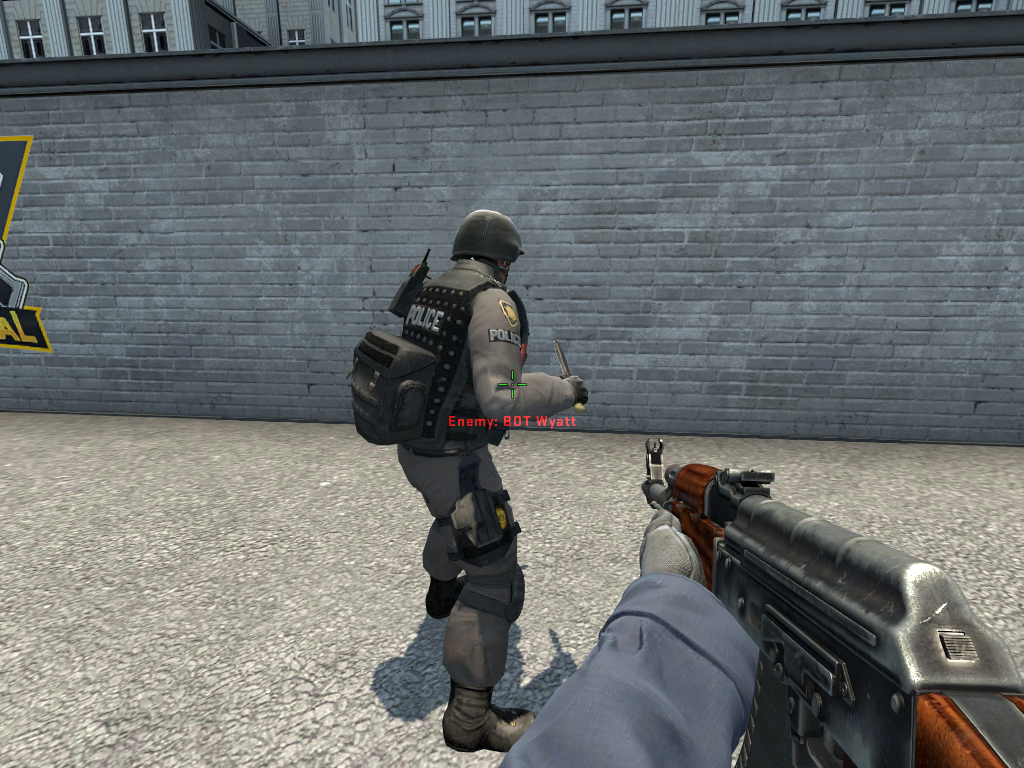ct head: (447, 203, 527, 294)
